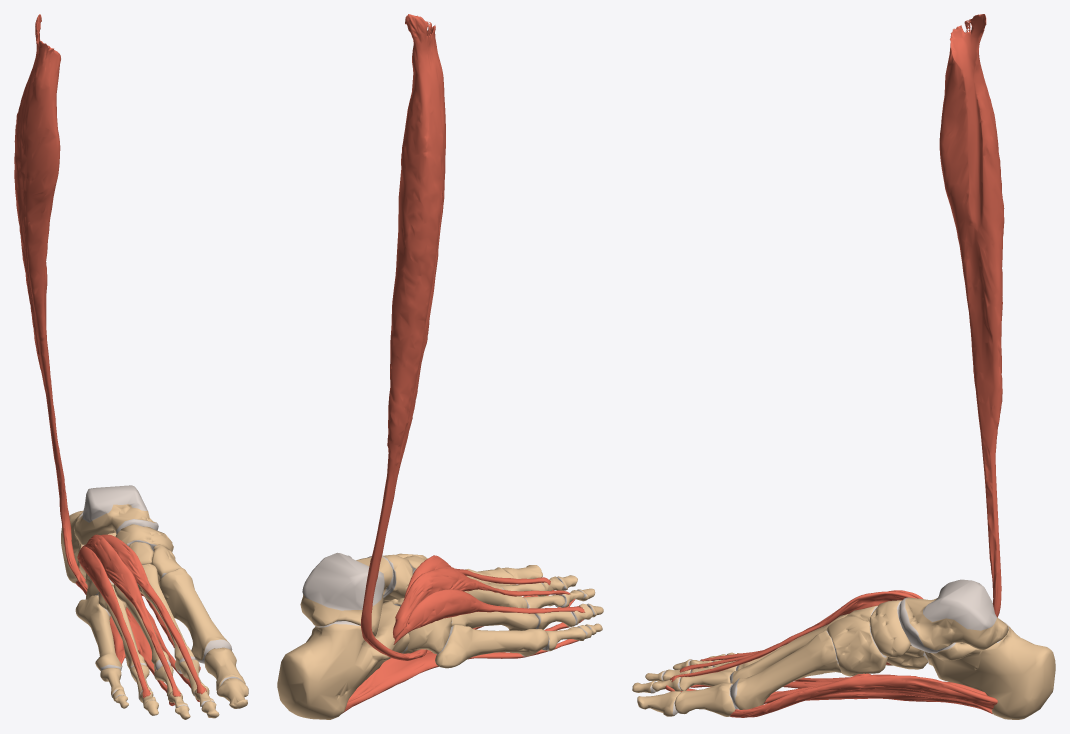
The model's file is foot.glb.
The picture shows the model from 3 angles, left to right: view 1: azimuth 30°, elevation 25°; view 2: azimuth 150°, elevation 25°; view 3: azimuth 270°, elevation 25°; orthographic projection. The views are drawn at different scales.
Visible parts, largest first — view 1: muscle_peroneus_longus, bone_metatarsals, muscle_extensor_digitorum_brevis, bone_phalanges_foot, bone_talus, bone_tarsals, muscle_flexor_digitorum_brevis, bone_calcaneus; view 2: muscle_peroneus_longus, bone_calcaneus, muscle_extensor_digitorum_brevis, bone_metatarsals, bone_talus, bone_phalanges_foot, muscle_flexor_digitorum_brevis, bone_tarsals; view 3: muscle_peroneus_longus, bone_calcaneus, bone_talus, bone_tarsals, bone_metatarsals, muscle_abductor_hallucis, bone_phalanges_foot, muscle_extensor_digitorum_brevis, muscle_flexor_digitorum_brevis.
Boxes of the visible parts, x1,y1,x2,y2 form: muscle_peroneus_longus: (14, 14, 142, 595); bone_metatarsals: (75, 563, 232, 673); muscle_extensor_digitorum_brevis: (77, 534, 206, 698); bone_phalanges_foot: (100, 647, 248, 719); bone_talus: (74, 485, 158, 545); bone_tarsals: (85, 524, 181, 599); muscle_flexor_digitorum_brevis: (75, 580, 199, 705); bone_calcaneus: (61, 510, 116, 583); muscle_peroneus_longus: (361, 14, 445, 660); bone_calcaneus: (277, 601, 409, 719); muscle_extensor_digitorum_brevis: (393, 555, 585, 644); bone_metatarsals: (435, 575, 549, 668); bone_talus: (300, 552, 393, 636); bone_phalanges_foot: (465, 565, 603, 651); muscle_flexor_digitorum_brevis: (342, 590, 583, 713); bone_tarsals: (383, 553, 451, 653); muscle_peroneus_longus: (886, 14, 1004, 664); bone_calcaneus: (924, 622, 1055, 719); bone_talus: (899, 579, 1008, 653); bone_tarsals: (827, 600, 927, 676); bone_metatarsals: (730, 614, 892, 709); muscle_abductor_hallucis: (730, 673, 997, 717); bone_phalanges_foot: (632, 652, 739, 716); muscle_extensor_digitorum_brevis: (669, 590, 923, 681); muscle_flexor_digitorum_brevis: (665, 667, 992, 713).
Bounding box in the file's own units: 0.0937 × 0.4011 × 0.2289.
